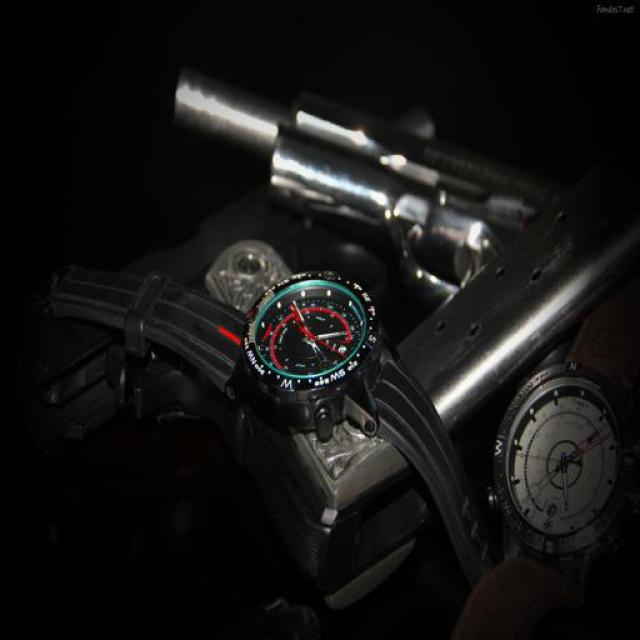pistol: (15, 101, 441, 613), (174, 56, 638, 405)
